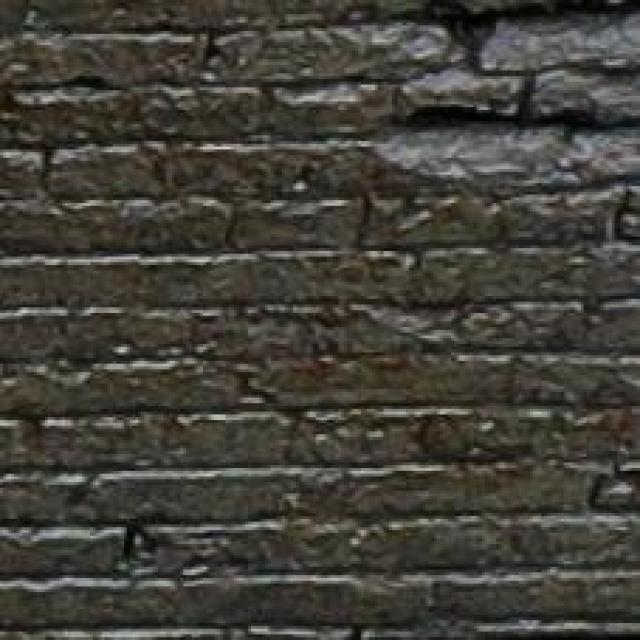Crack: (286, 2, 640, 425)
